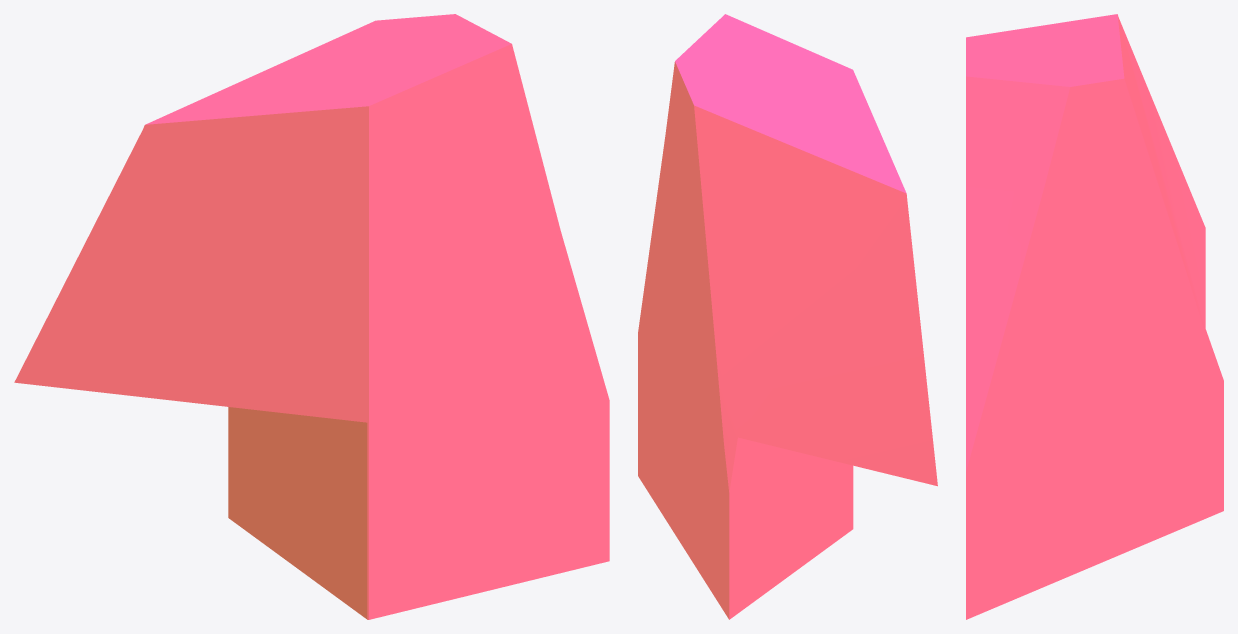
The picture shows the model from 3 angles, left to right: view 1: azimuth 30°, elevation 25°; view 2: azimuth 150°, elevation 25°; view 3: azimuth 270°, elevation 25°; orthographic projection. The views are drawn at different scales.
Parts seen in each view (by area): view 1: polySurface1; view 2: polySurface1; view 3: polySurface1.
Part boxes in pixels (left/top/right/bottom): polySurface1: left=14, top=14, right=609, bottom=619; polySurface1: left=638, top=14, right=937, bottom=619; polySurface1: left=966, top=14, right=1223, bottom=619.
Bounding box in the file's own units: 8.17 × 9.08 × 4.24.
